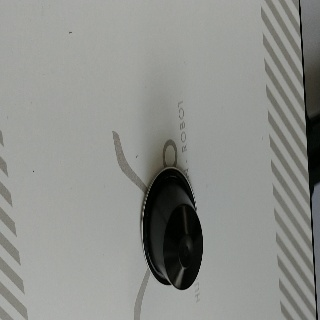capsule_10: (139, 165, 203, 290)
